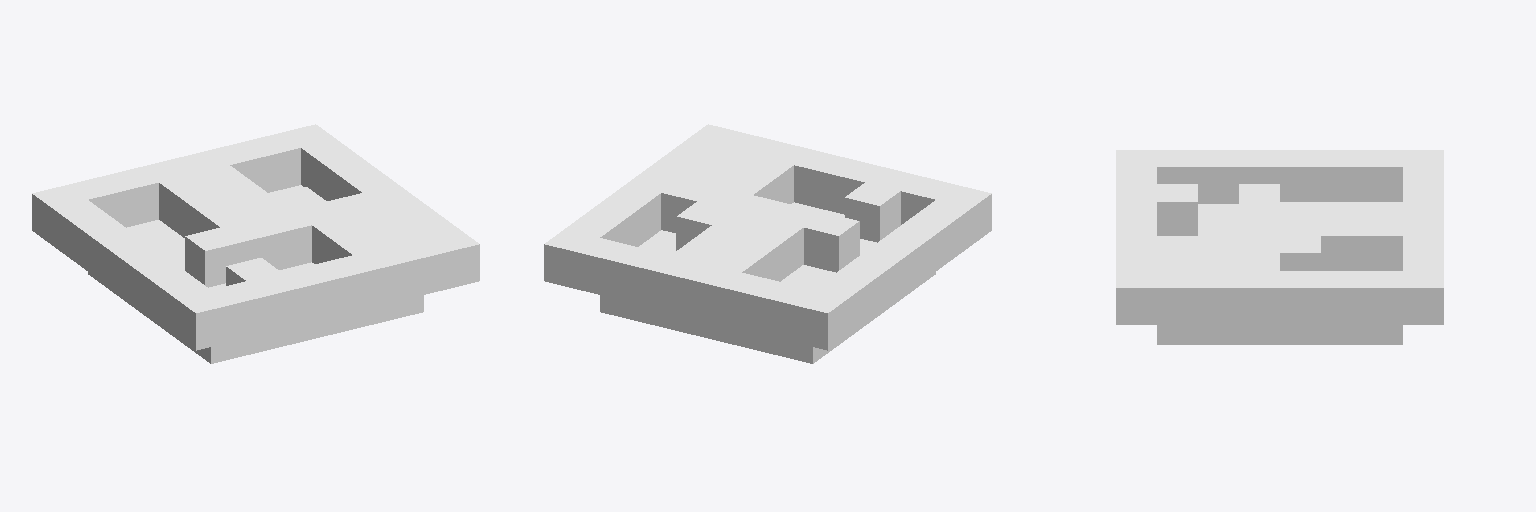
File: FairyWingHalf.obj
The picture shows the model from 3 angles: view 1: azimuth 30°, elevation 25°; view 2: azimuth 150°, elevation 25°; view 3: azimuth 270°, elevation 25°; orthographic projection.
Visible parts, largest first — view 1: object 1; view 2: object 1; view 3: object 1.
Boxes of the visible parts, <box> form: object 1: <box>32,124,479,363</box>; object 1: <box>544,124,991,363</box>; object 1: <box>1116,150,1443,344</box>.
Bounding box in the file's own units: 0.8 × 0.2 × 0.8.